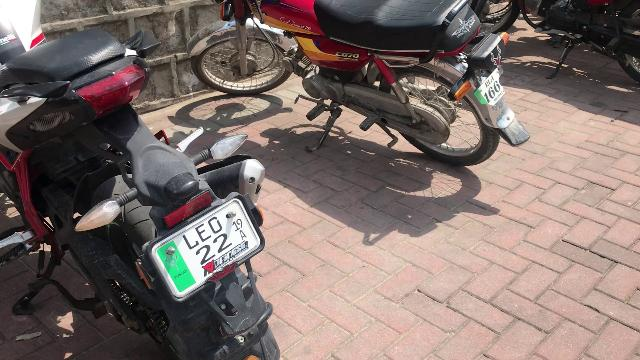plate: (150, 198, 266, 304), (474, 66, 505, 106)
